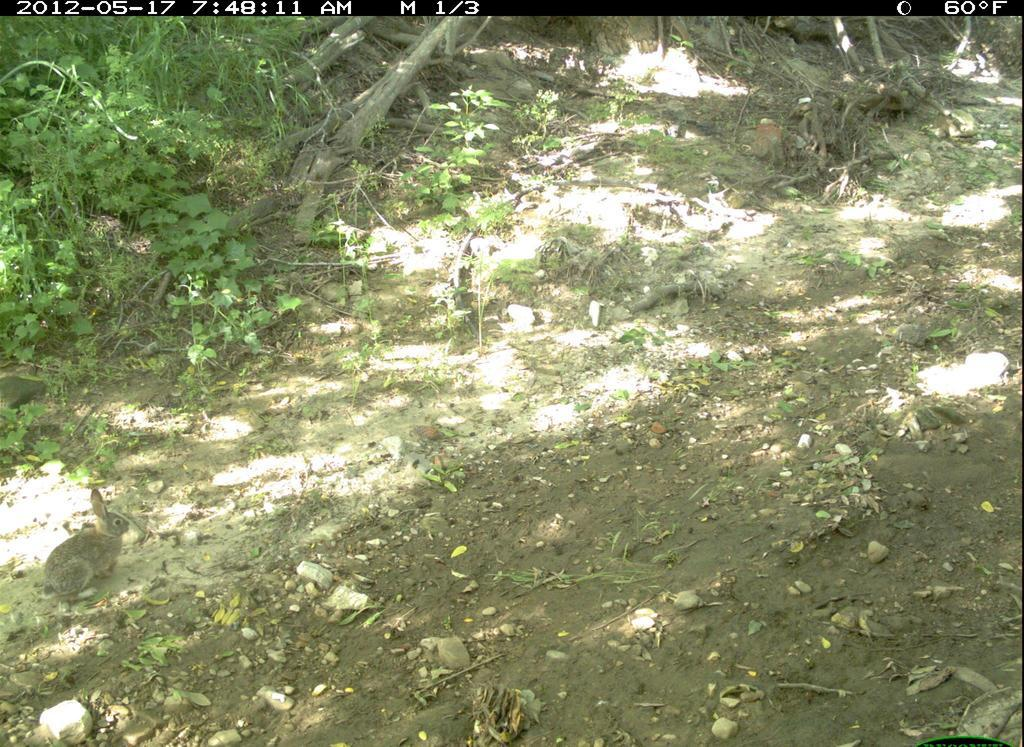rabbit: (33, 477, 146, 624)
